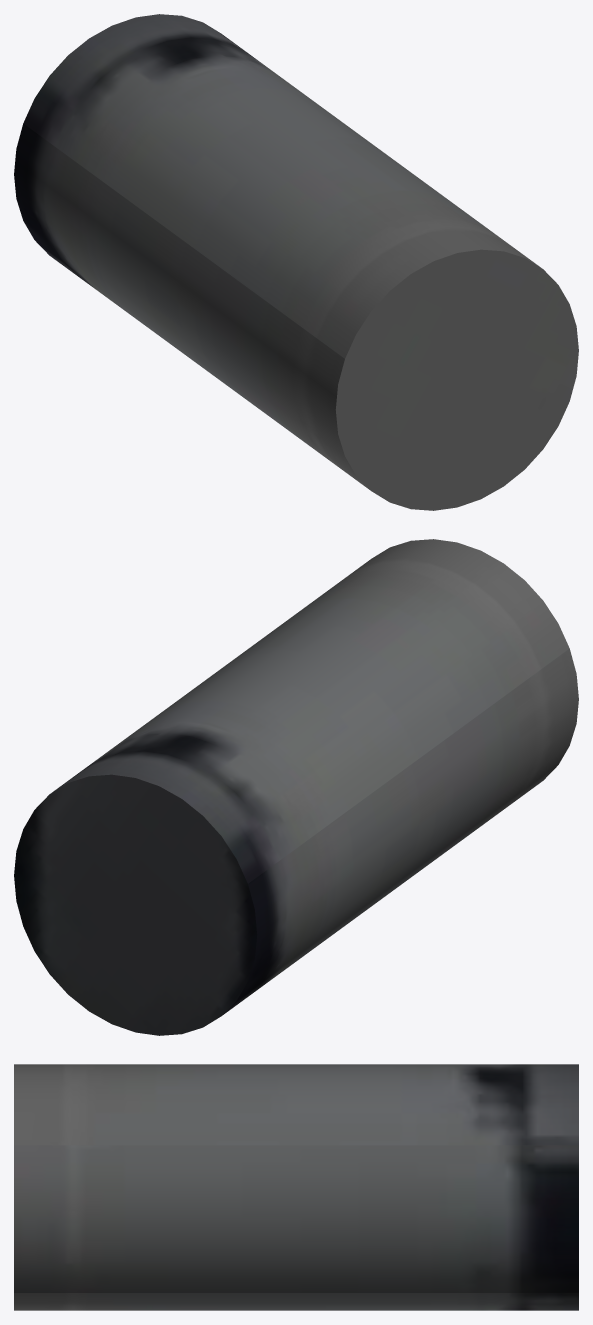
File: housing__caster_stem_1.glb
3 views of the same model, one above another, from view 1: azimuth 30°, elevation 25°; view 2: azimuth 150°, elevation 25°; view 3: azimuth 270°, elevation 25° (orthographic). The views are drawn at different scales.
Parts seen in each view (by area): view 1: geometry_0; view 2: geometry_0; view 3: geometry_0.
Part boxes in pixels (x1,y1,x2,y2): geometry_0: (14, 14, 578, 510); geometry_0: (14, 539, 578, 1035); geometry_0: (14, 1064, 578, 1310).
Bounding box in the file's own units: 0.024 × 0.024 × 0.055.
1 material, 1 textured.
